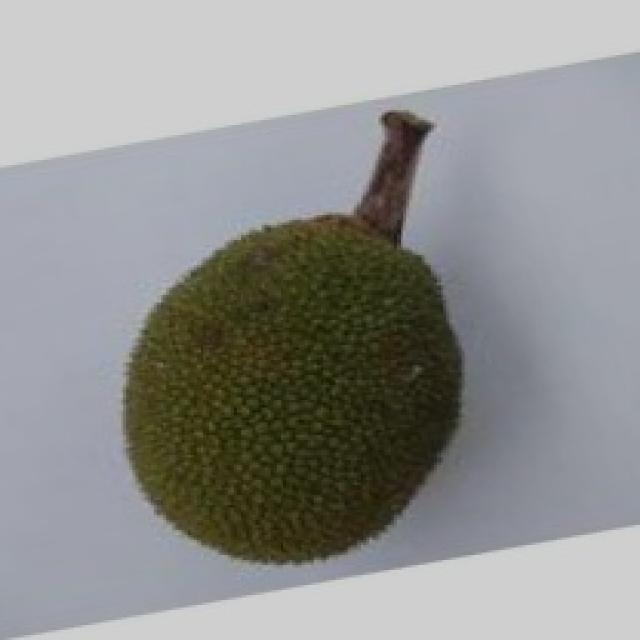Fruit: (96, 192, 498, 592)
